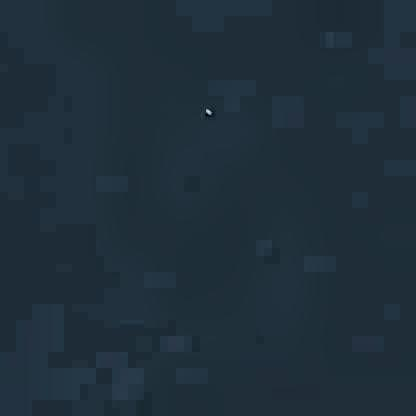golfball: (201, 104, 212, 115)
